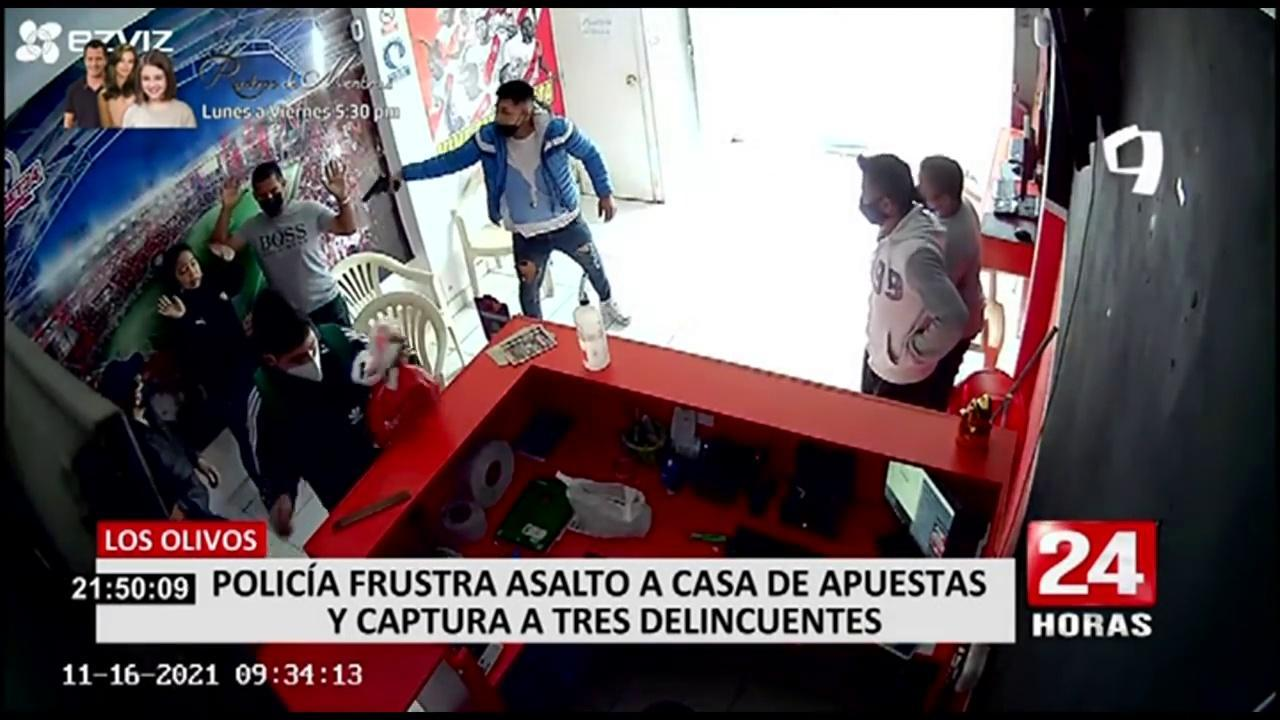Guns perspective: (352, 153, 415, 217)
